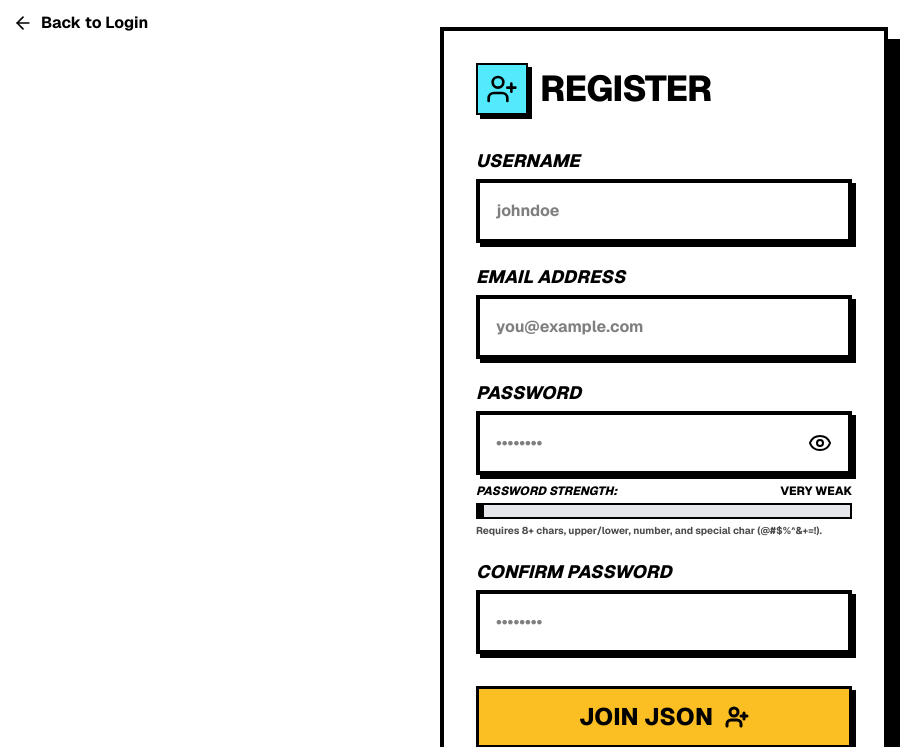
Authentication Pages › RegisterPage › validates password complexity
In the field with placeholder "johndoe": (664, 211) [476, 179, 852, 243], type "testuser"
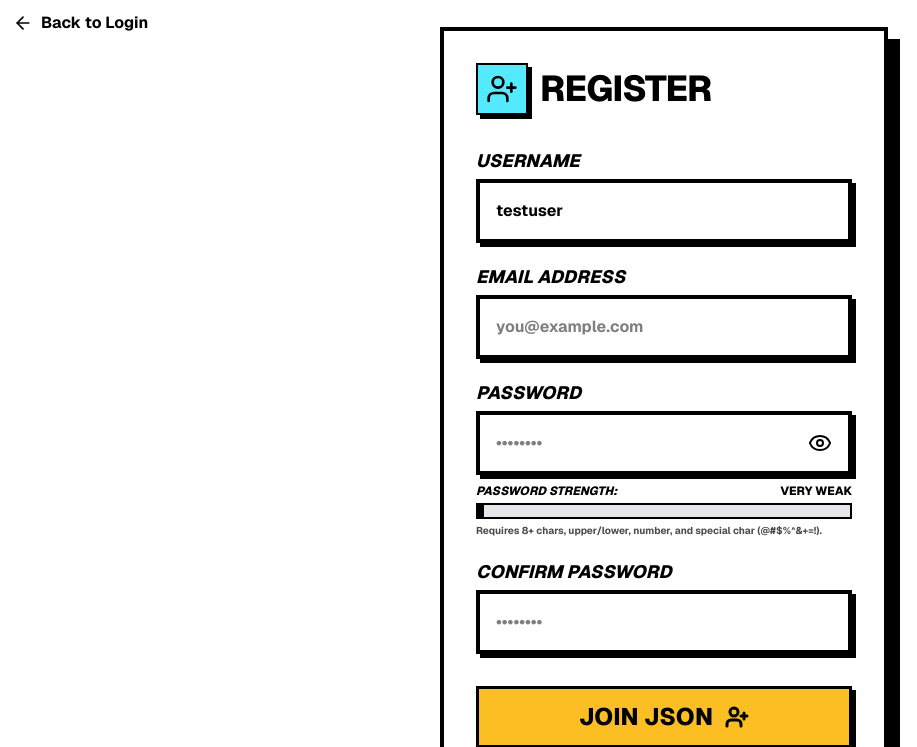
In the field with placeholder "you@example.com": (664, 327) [476, 295, 852, 359], type "test@example.com"
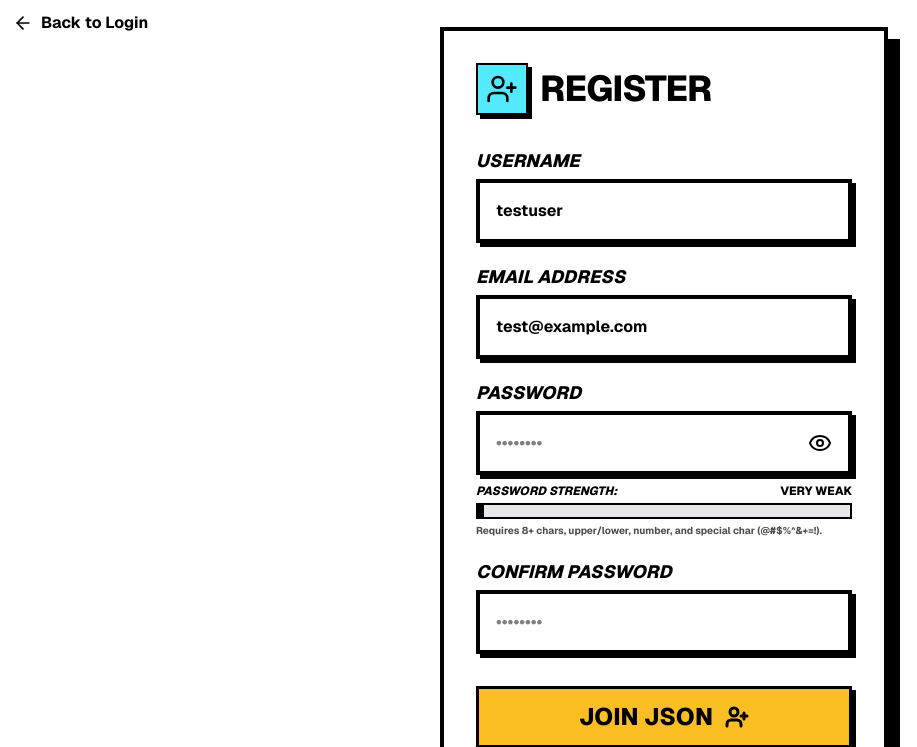
In the password field with placeholder "••••••••": (664, 443) [476, 411, 852, 475], type "weak"
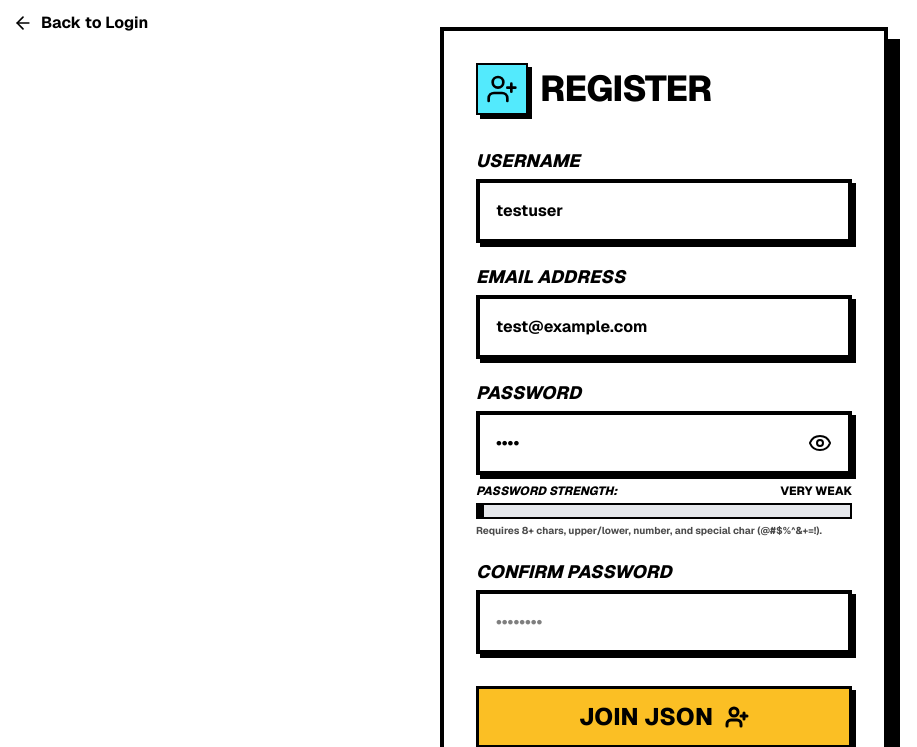
In the password field with placeholder "••••••••": (664, 622) [476, 590, 852, 654], type "weak"
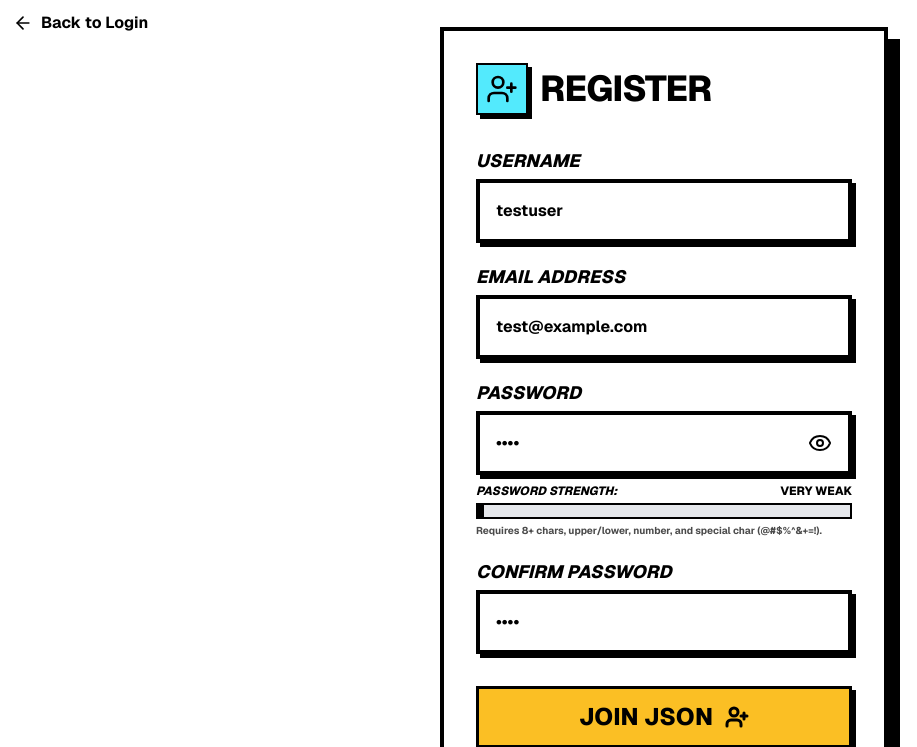
Click the button "Join JSON": (664, 717) [476, 686, 852, 746]
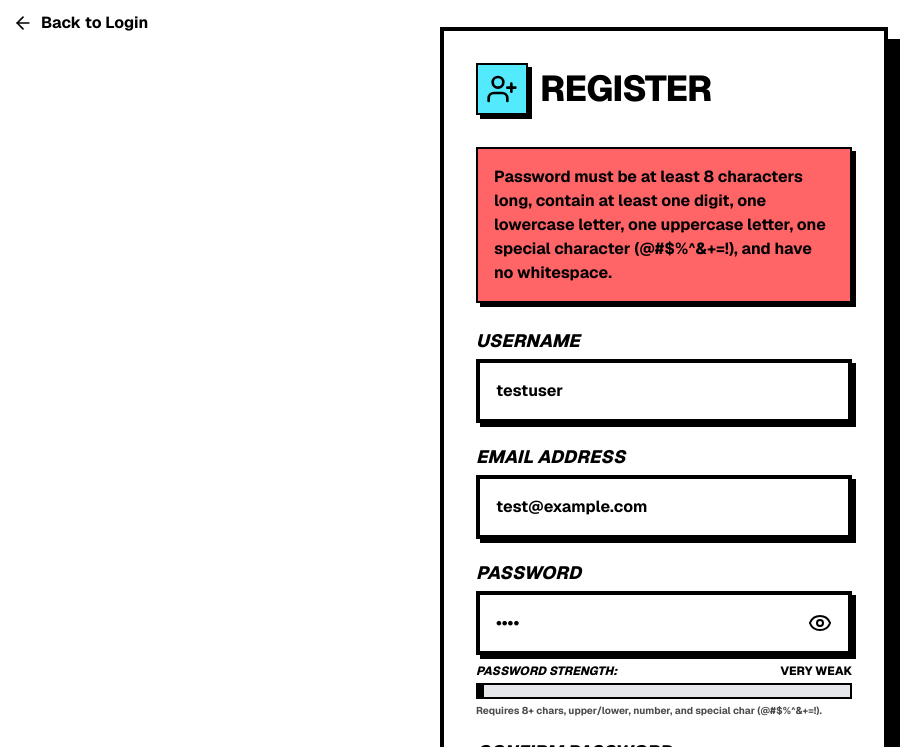
Expected: the text "Password must be at least 8 characters long" is shown, [494, 166, 826, 283]
